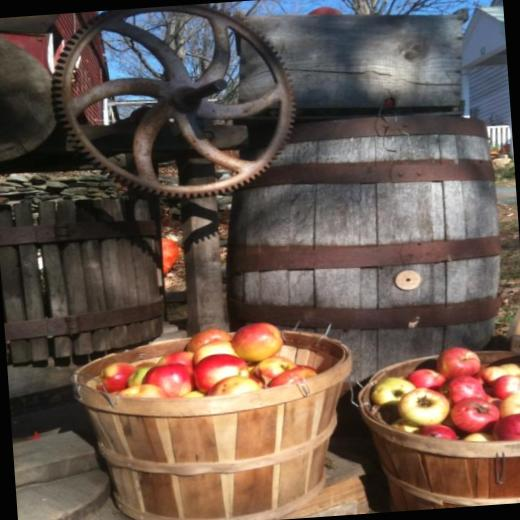Apple: (86, 320, 322, 403), (365, 340, 520, 447), (222, 323, 285, 366)
